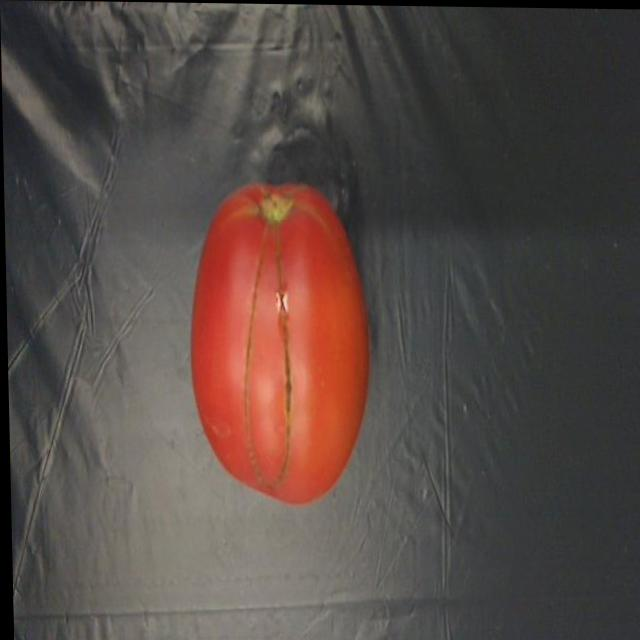kirmizi: (177, 176, 377, 518)
